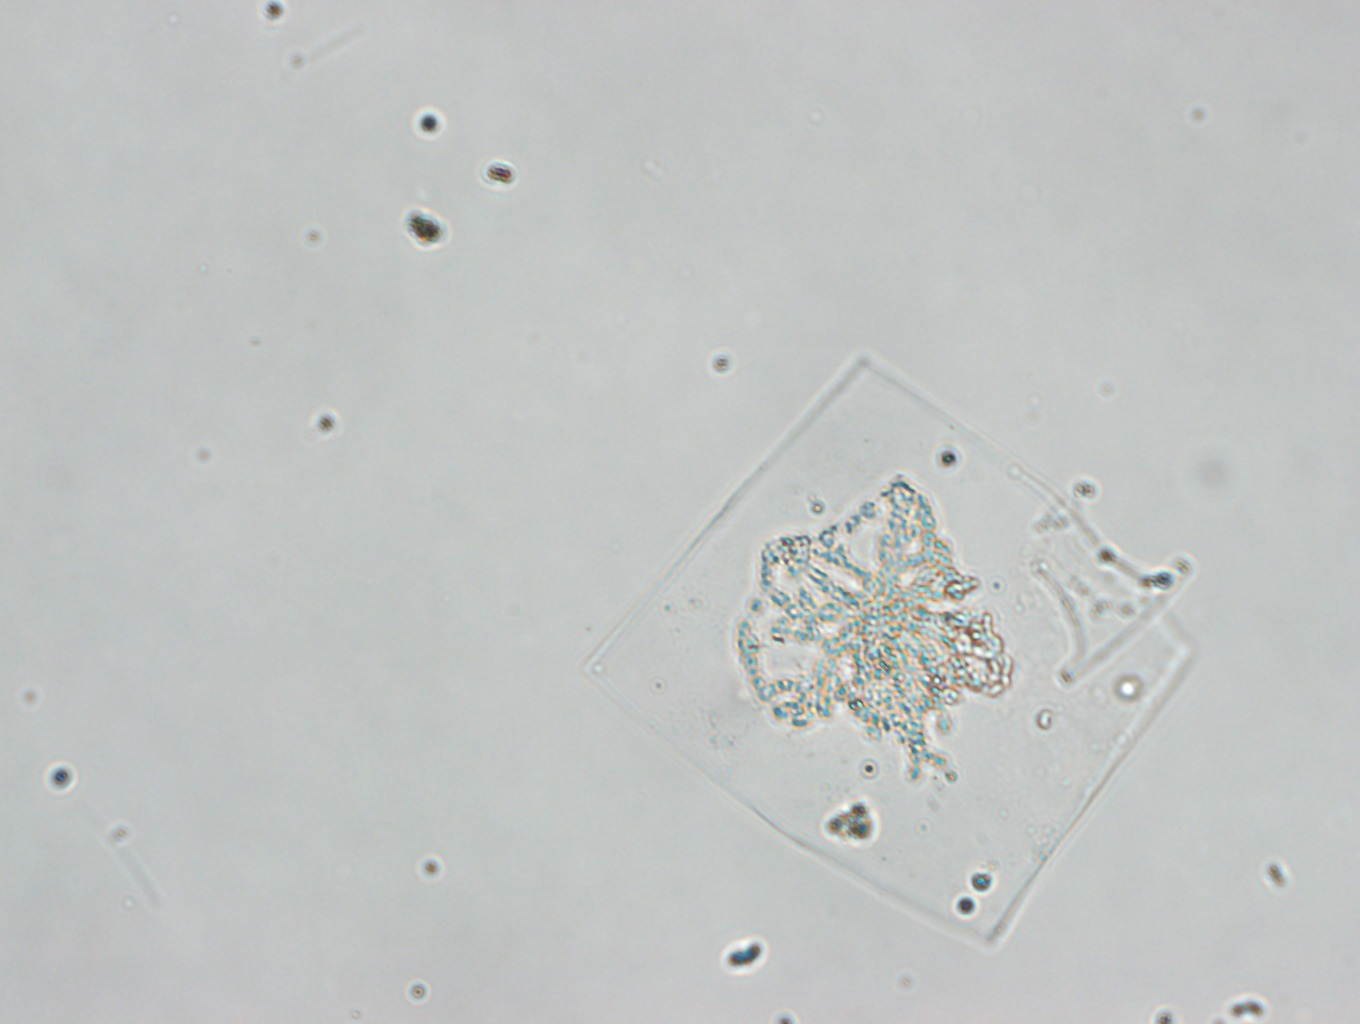helicotheca: (589, 352, 1203, 945)
